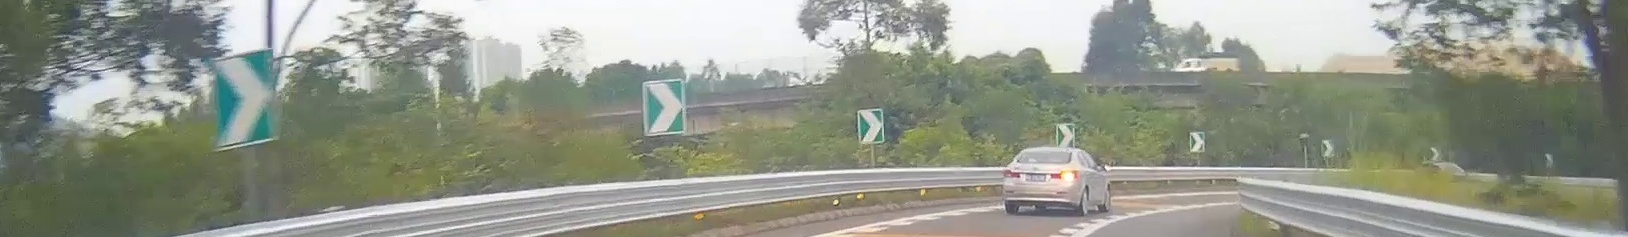L_light: (1004, 169, 1021, 179)
R_light: (1050, 170, 1080, 180)
T_light: (1039, 150, 1052, 152)
day-right: (1002, 147, 1082, 215)
